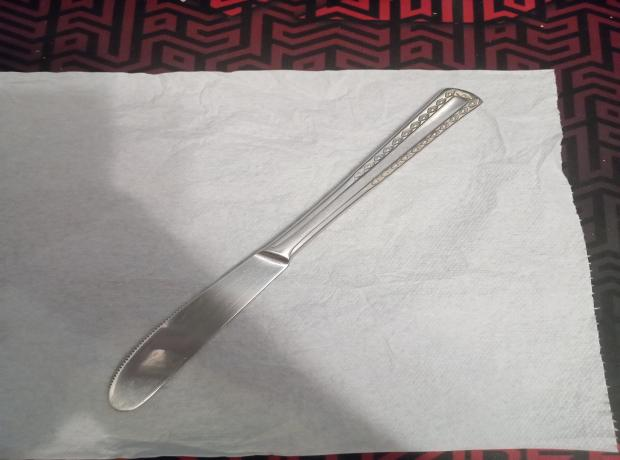metal: (107, 86, 486, 412)
